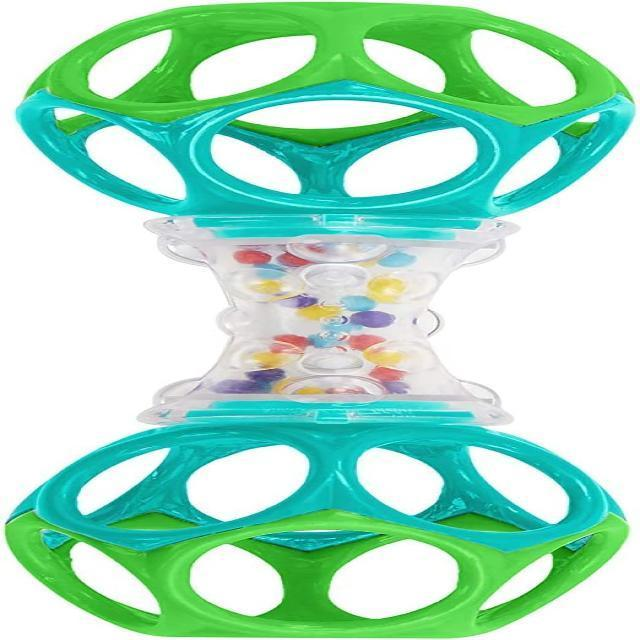hard-toy: (9, 4, 635, 636)
